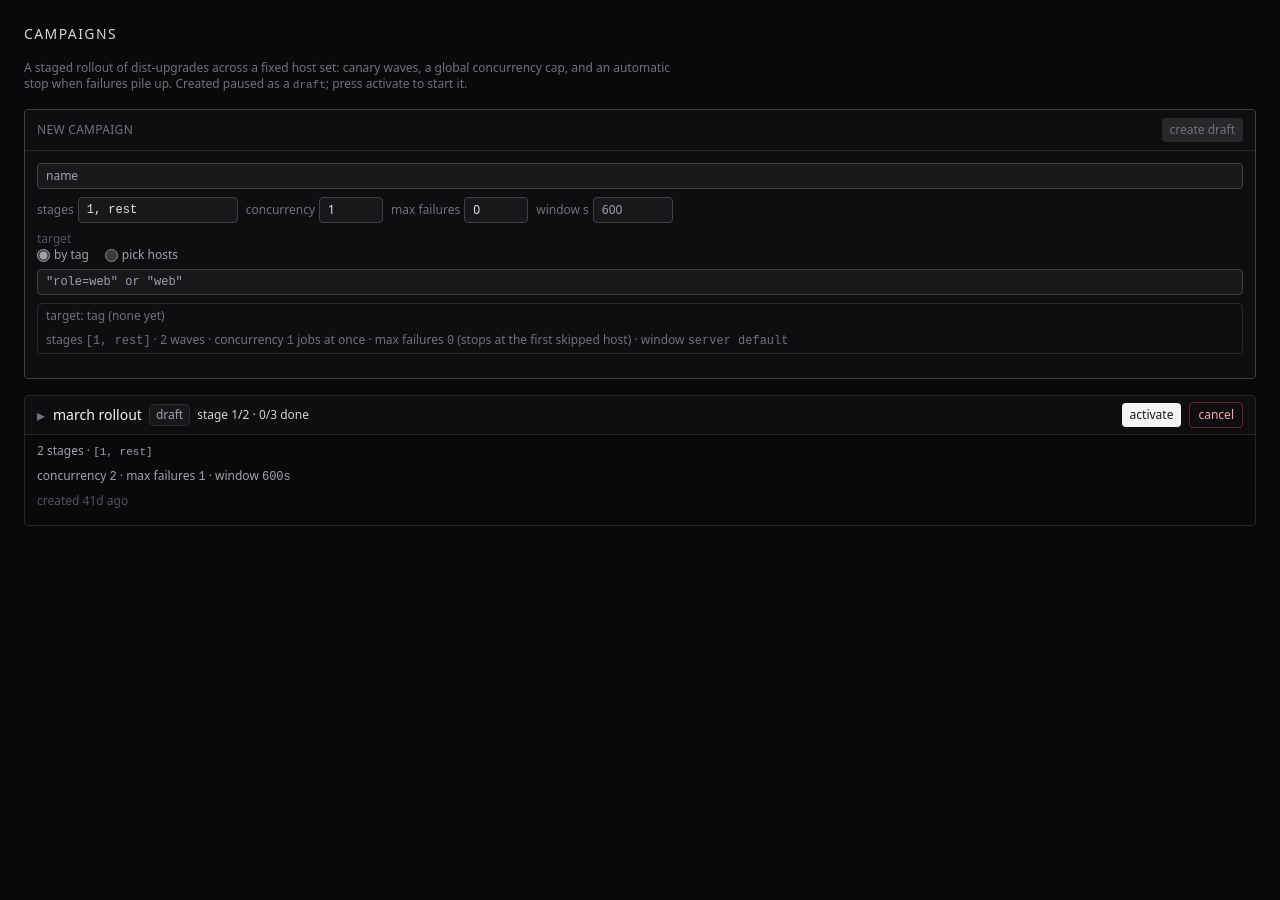
Test: CampaignsView › activates a draft campaign
Expected: the text "march rollout" is shown, left=53, top=405, right=142, bottom=425
Click the button "activate".
click(1152, 415)  # box left=1122, top=403, right=1182, bottom=427
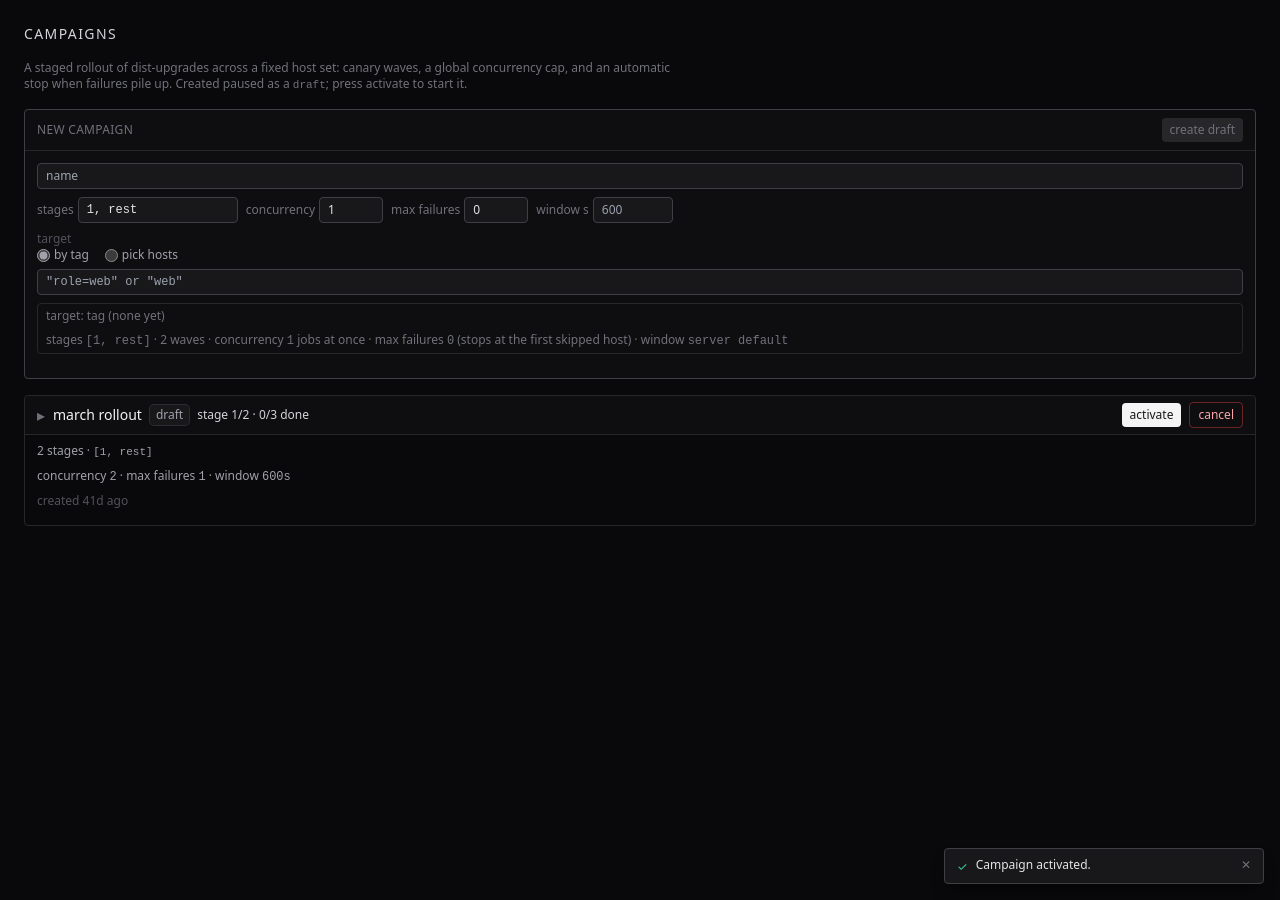
Expected: the text "Campaign activated." is shown, left=976, top=856, right=1091, bottom=873
